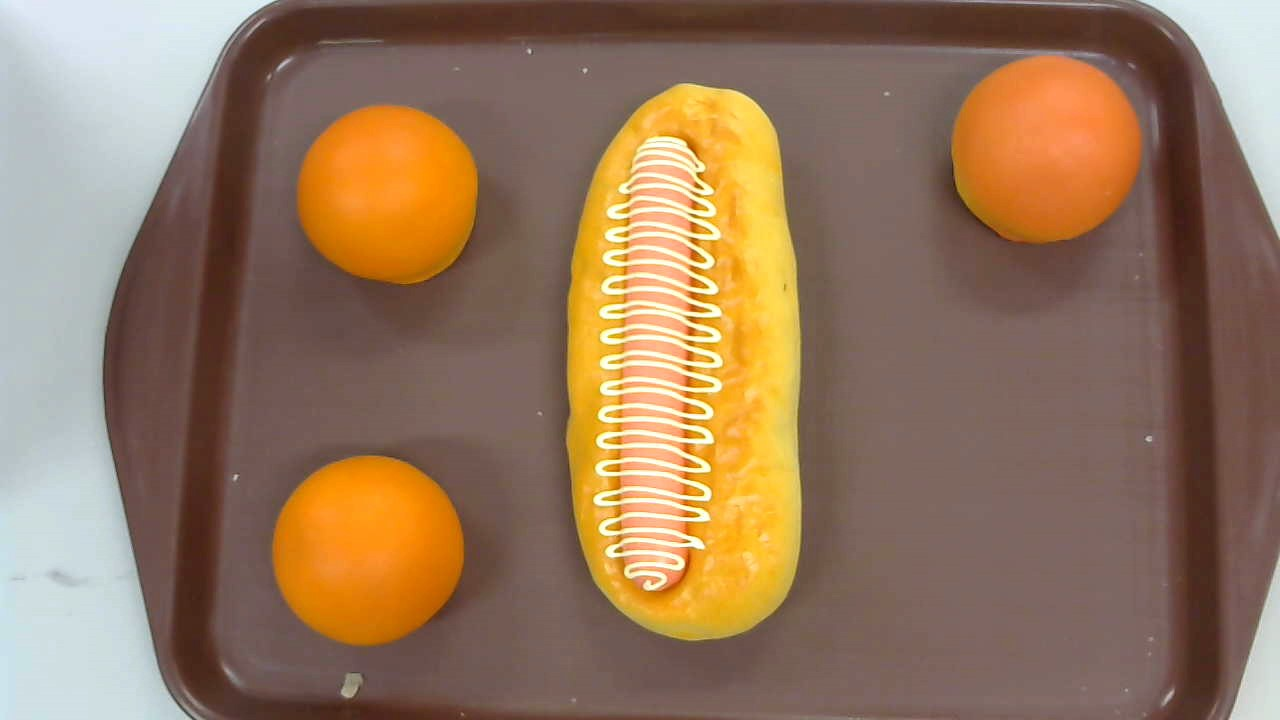bun: (272, 453, 463, 647), (952, 54, 1141, 244), (295, 102, 478, 286)
hot dog: (566, 82, 801, 642)
